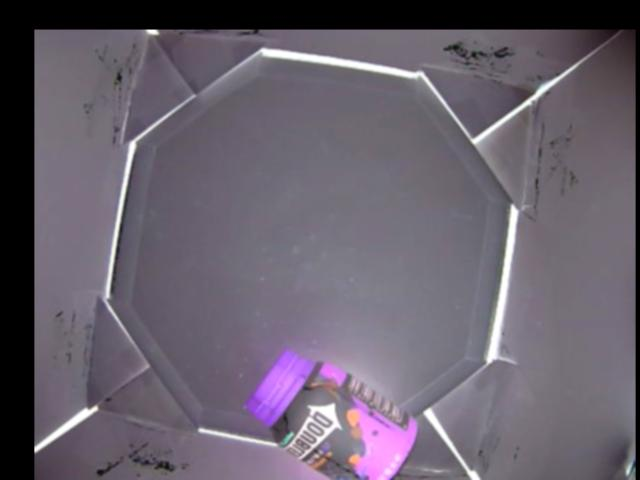Bottle: (243, 348, 418, 480)
